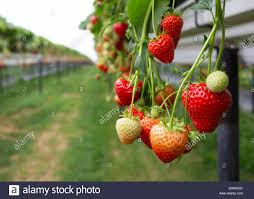ripe: (178, 82, 230, 137), (138, 111, 166, 149), (146, 31, 175, 67), (161, 12, 183, 53), (115, 75, 142, 108), (153, 84, 175, 109), (114, 20, 126, 36)
unripe: (149, 122, 191, 164), (113, 114, 145, 144), (204, 71, 230, 92), (150, 105, 162, 119)
